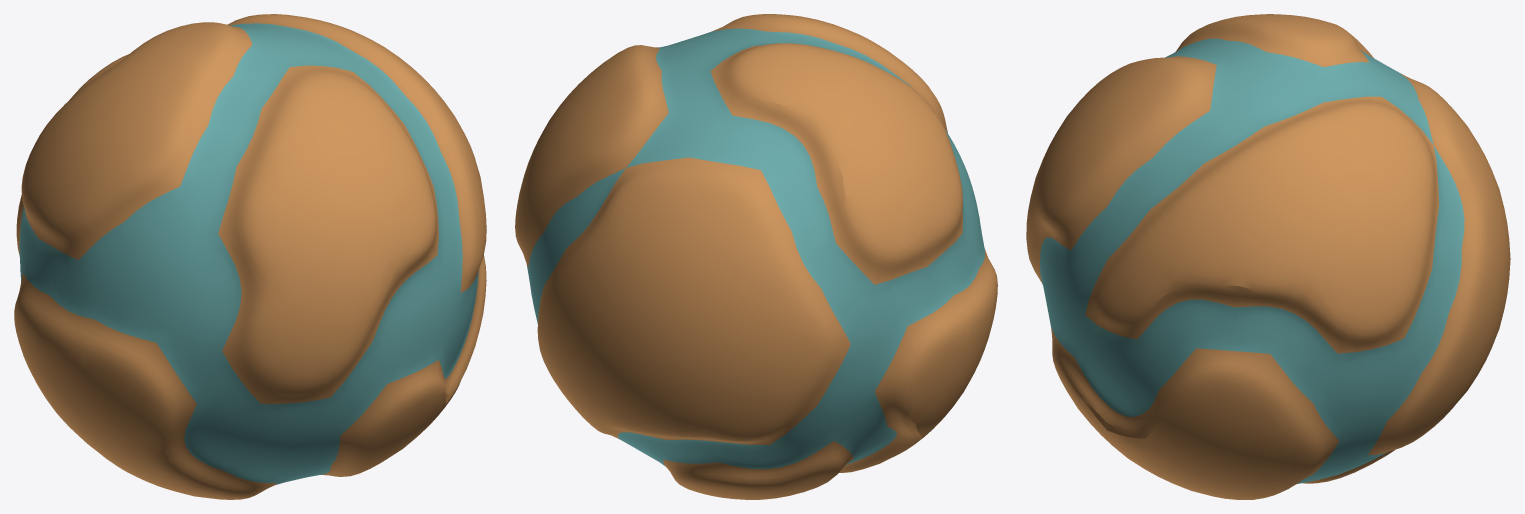
File: Planet-rYguWNNPvA.glb
The picture shows the model from 3 angles, left to right: view 1: azimuth 30°, elevation 25°; view 2: azimuth 150°, elevation 25°; view 3: azimuth 270°, elevation 25°; orthographic projection.
Parts seen in each view (by area): view 1: Planet_2; view 2: Planet_2; view 3: Planet_2.
Part boxes in pixels (bbox=[...]): Planet_2: bbox=[14, 14, 486, 499]; Planet_2: bbox=[515, 14, 997, 499]; Planet_2: bbox=[1026, 14, 1510, 499].
Bounding box in the file's own units: 3.81 × 3.83 × 3.85.
1 material, 1 textured.
